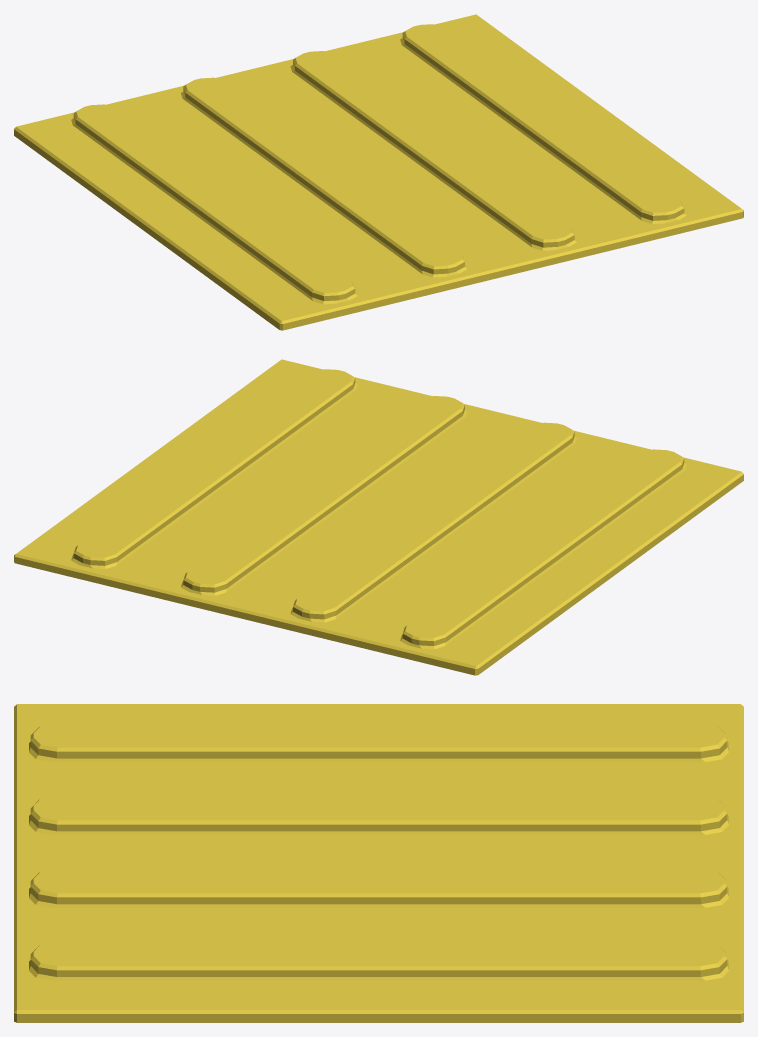
The model's file is brailleBlockLineNew.fbx.
The picture shows the model from 3 angles, top to bottom: view 1: azimuth 30°, elevation 25°; view 2: azimuth 150°, elevation 25°; view 3: azimuth 270°, elevation 25°; orthographic projection. The views are drawn at different scales.
Parts seen in each view (by area): view 1: brailleBlockLine; view 2: brailleBlockLine; view 3: brailleBlockLine.
Boxes of the visible parts, x1,y1,x2,y2 form: brailleBlockLine: [14, 14, 743, 330]; brailleBlockLine: [14, 359, 743, 675]; brailleBlockLine: [14, 704, 743, 1022].
Bounding box in the file's own units: 121 × 4.41 × 121.
